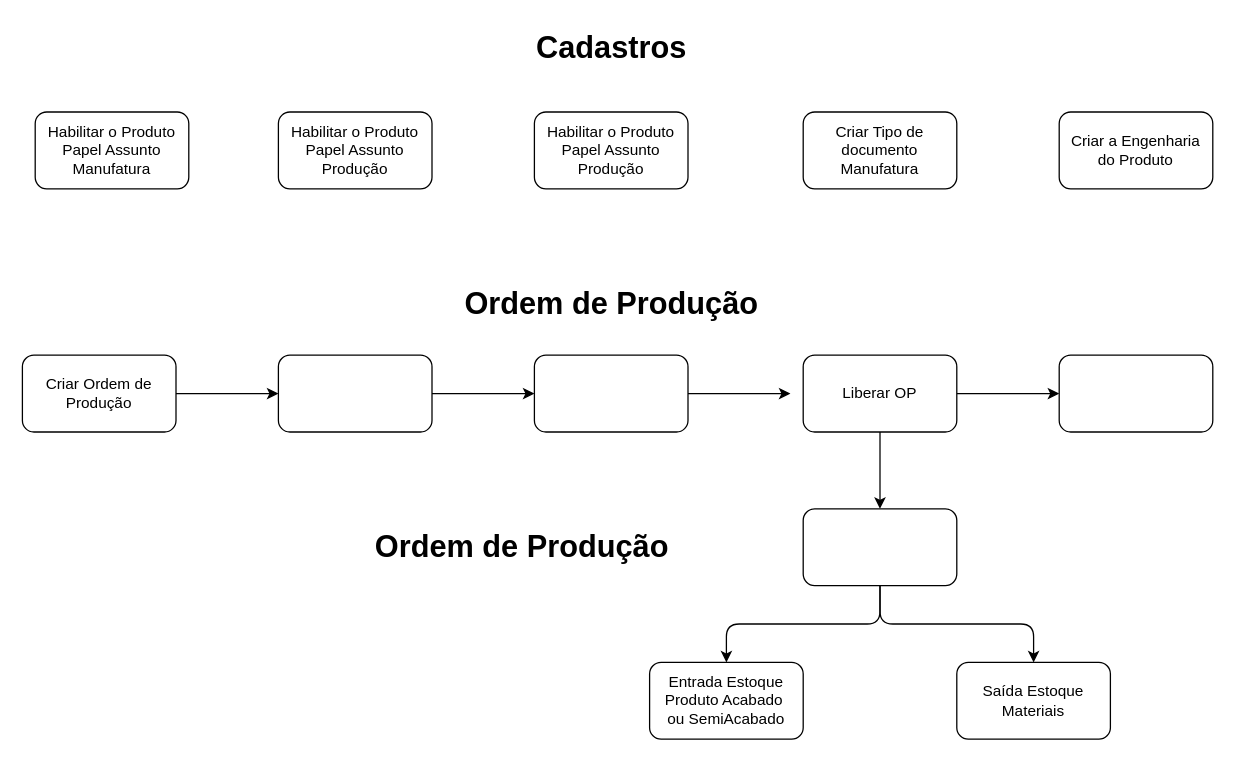
Some shapes in this 1235 by 762 pixel diagram are drawn without their labels. The centre of each missing label's shape, as x and y in pixels:
"Apontar Ordem de Produção" belongs at (610,393).
"Finalizar OP" belongs at (1135,393).
"Firmar Ordem de Produção" belongs at (354,393).
"Integrar OP com Entrada Produção" belongs at (879,547).
